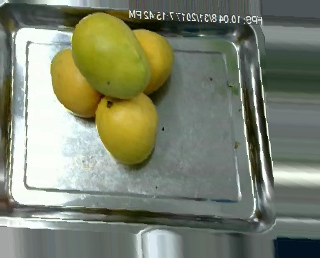Mango: (71, 12, 151, 98), (96, 87, 157, 163), (50, 47, 106, 118), (124, 28, 174, 94)
